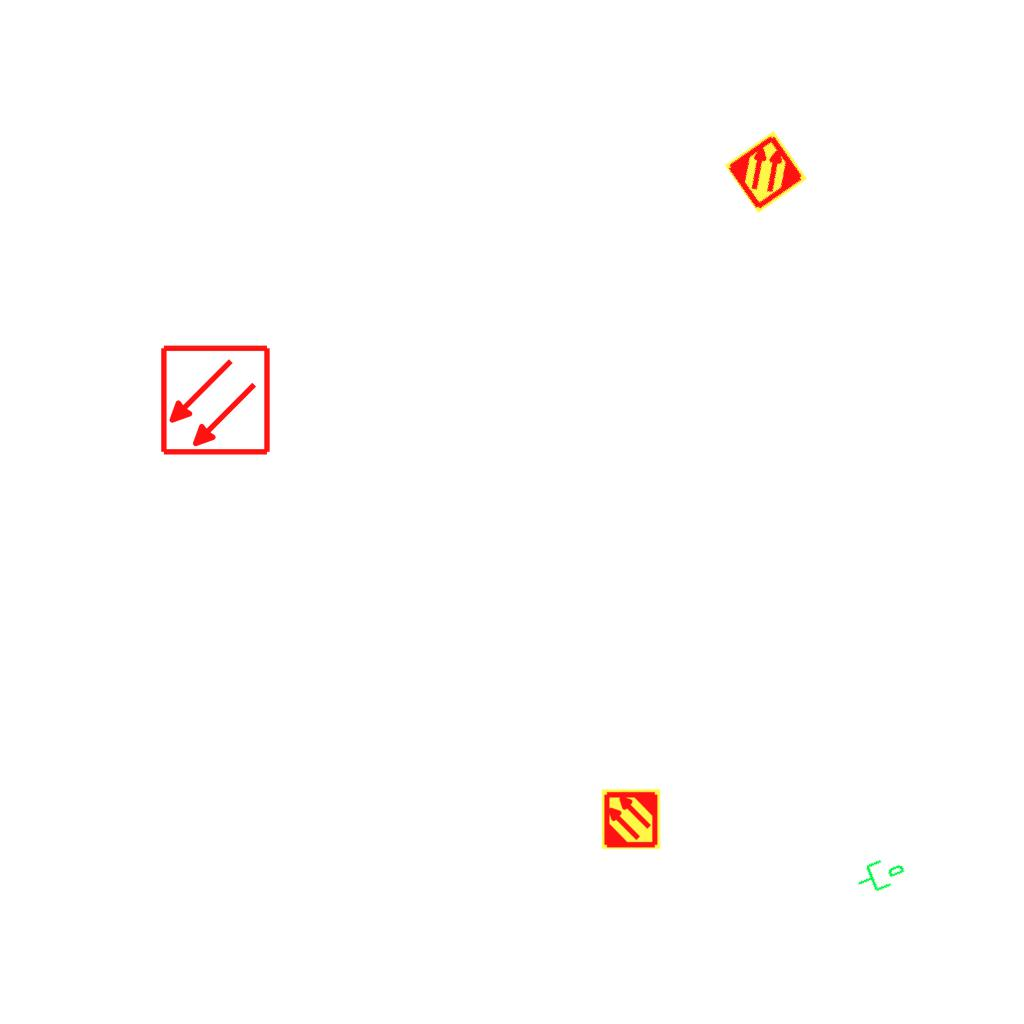ASR_Ansaugrauchmelder: (722, 128, 810, 216), (600, 788, 662, 850)
Datenanschluss_einfach: (850, 848, 910, 900)
RMO_Rauchmelder_optischer: (159, 344, 272, 457)
